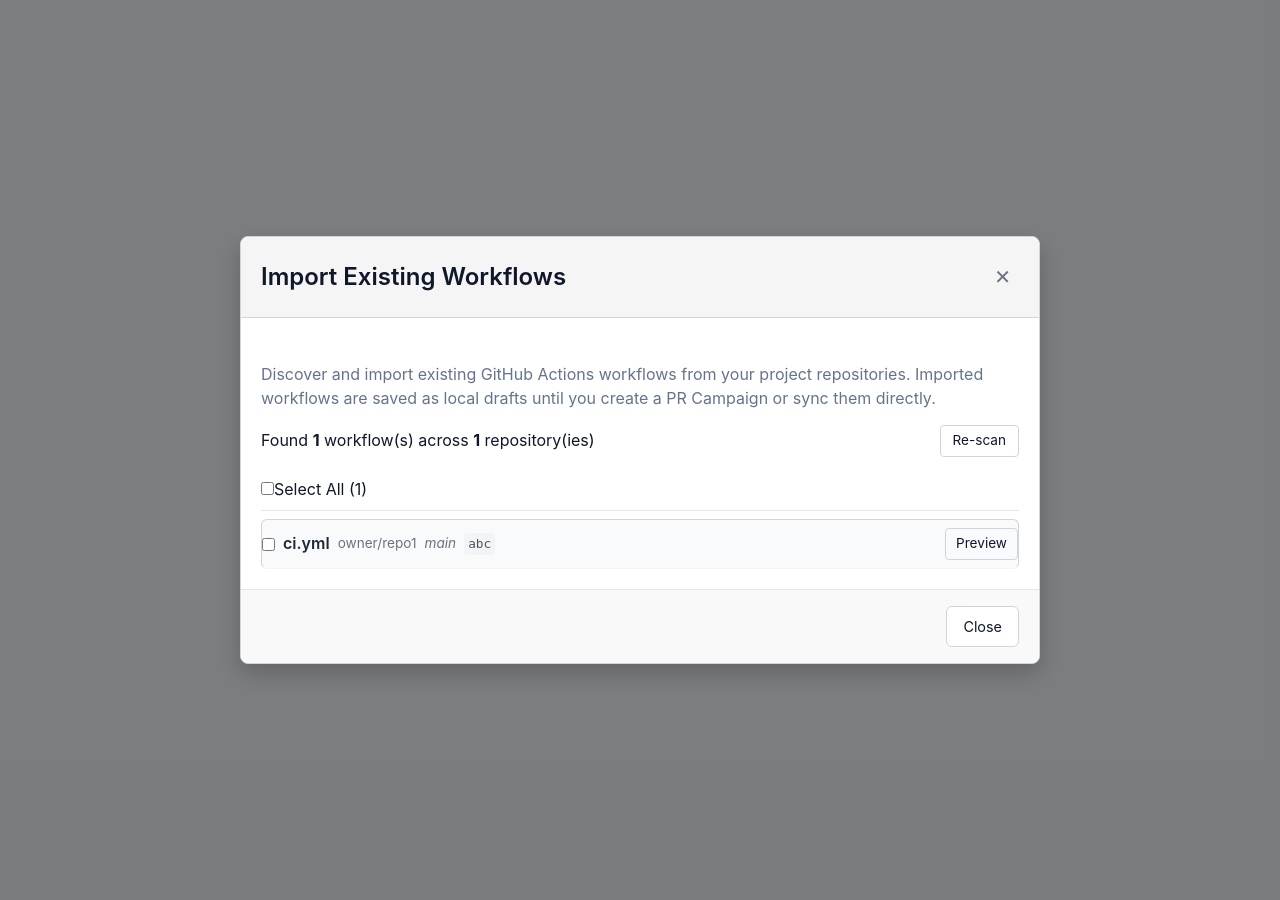
Scenario: WorkflowImportPanel › shows an error when PR campaign creation returns an explicit error payload
Expected: the element with test id "workflow-list" is shown, [261,519,1019,569]
Click the checkbox labelled "ci.yml owner/repo1 main abc": (268, 544) [262,538,275,551]
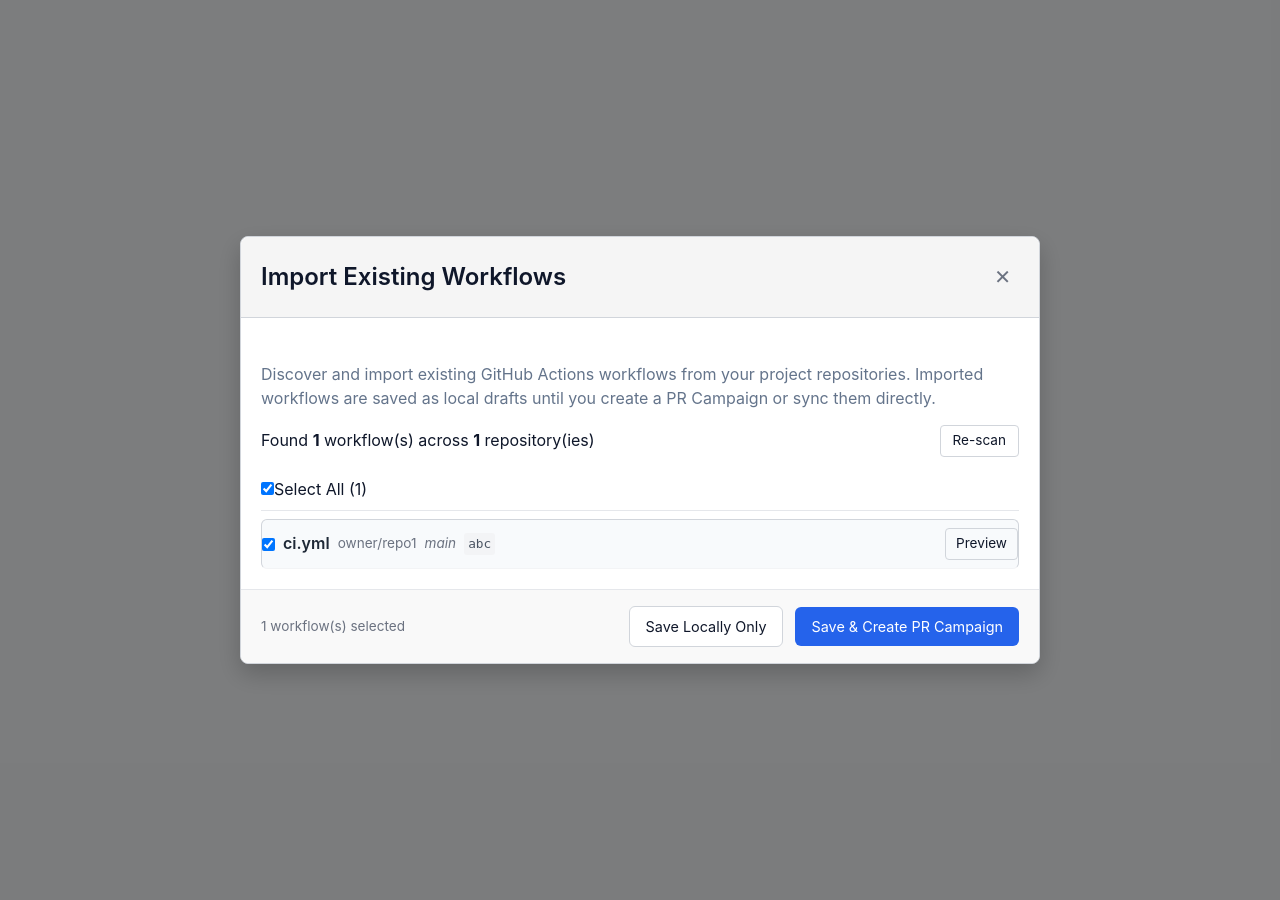
Click the button with test id "save-and-pr-button": (907, 626) [796,607,1019,646]
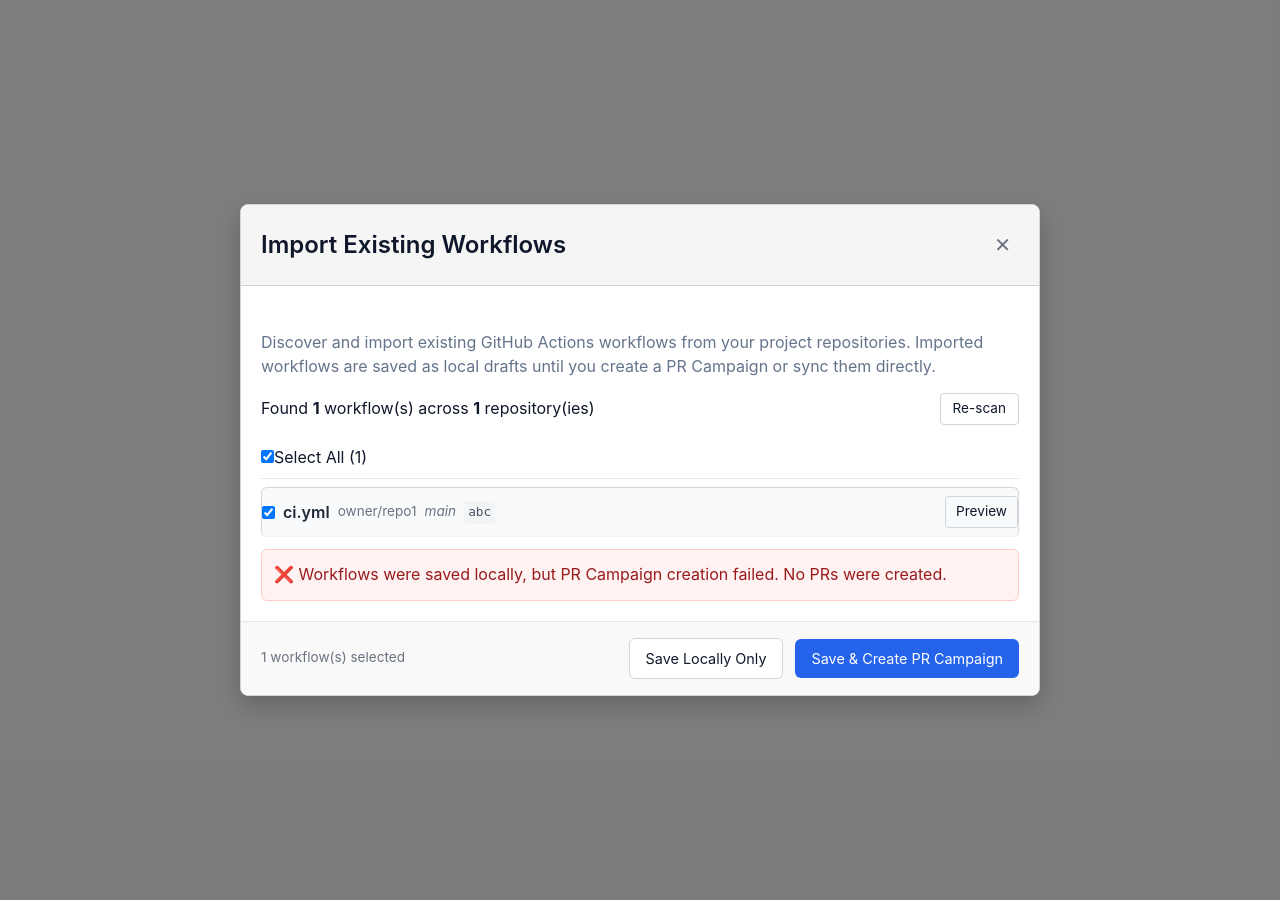
Now the text with test id "import-error" is shown, box [261,549,1019,601]
